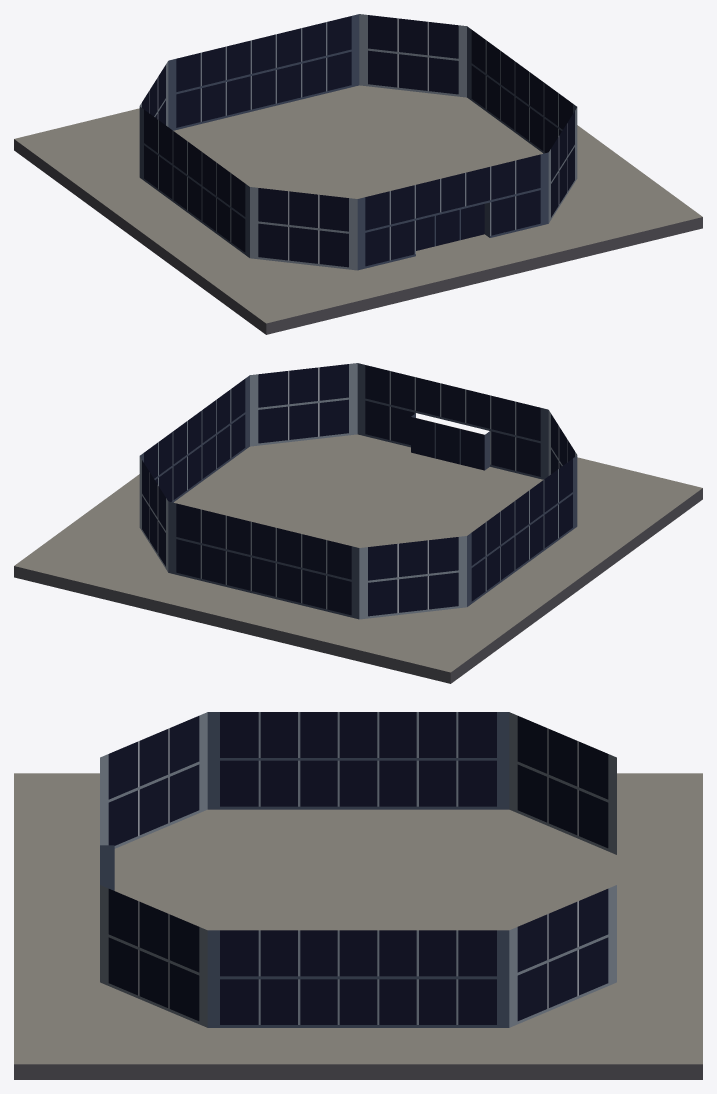
File: TB_CITY_Skysc_R_Bottom_Blue.FBX
3 renders of one model, top to bottom at view 1: azimuth 30°, elevation 25°; view 2: azimuth 150°, elevation 25°; view 3: azimuth 270°, elevation 25°, orthographic. The views are drawn at different scales.
Parts seen in each view (by area): view 1: TB_CITY_Skysc_R_Bottom_Blue; view 2: TB_CITY_Skysc_R_Bottom_Blue; view 3: TB_CITY_Skysc_R_Bottom_Blue.
Part boxes in pixels (<box>): TB_CITY_Skysc_R_Bottom_Blue: <box>14,14,702,334</box>; TB_CITY_Skysc_R_Bottom_Blue: <box>14,363,702,683</box>; TB_CITY_Skysc_R_Bottom_Blue: <box>14,712,702,1079</box>.
Size of the model in its own units: 32 by 5.8 by 32.
